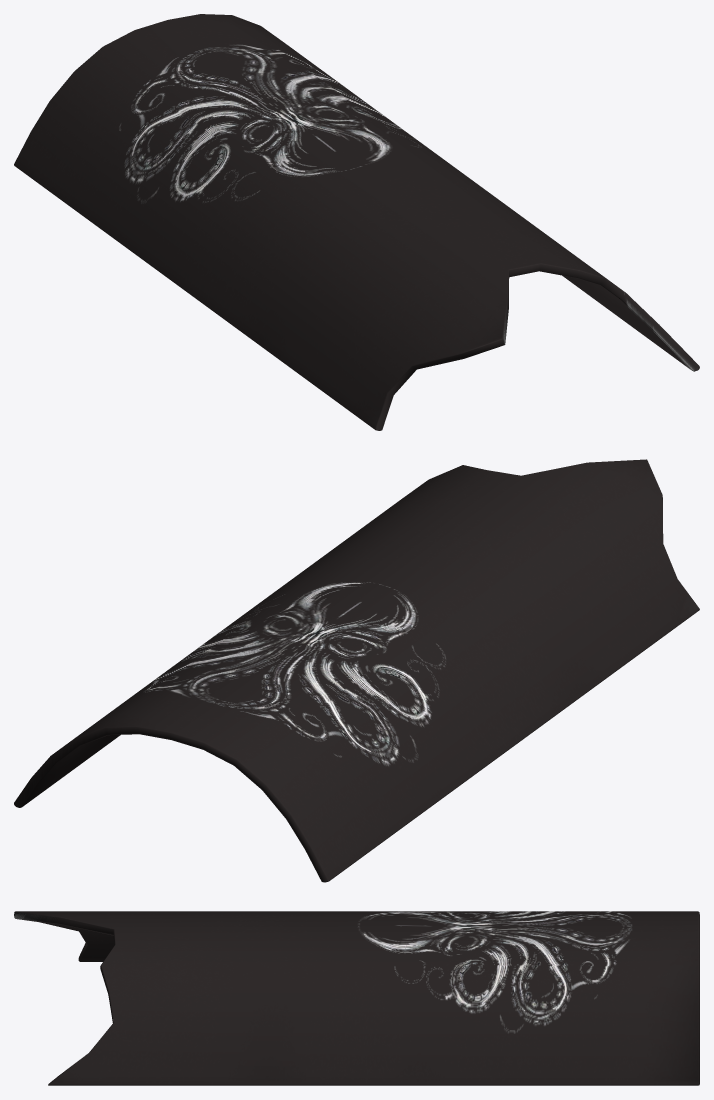
File: CLOTH.fbx
3 renders of one model, top to bottom at view 1: azimuth 30°, elevation 25°; view 2: azimuth 150°, elevation 25°; view 3: azimuth 270°, elevation 25°, orthographic. The views are drawn at different scales.
Parts seen in each view (by area): view 1: pCube14; view 2: pCube14; view 3: pCube14.
Boxes of the visible parts, x1,y1,x2,y2 form: pCube14: [14, 14, 699, 430]; pCube14: [14, 459, 699, 882]; pCube14: [14, 911, 699, 1085].
Bounding box in the file's own units: 9.3 × 3.19 × 21.
Materials: 1 (1 with a texture image).
